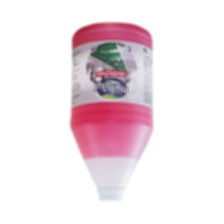cleaning_solution: (66, 19, 156, 203)
